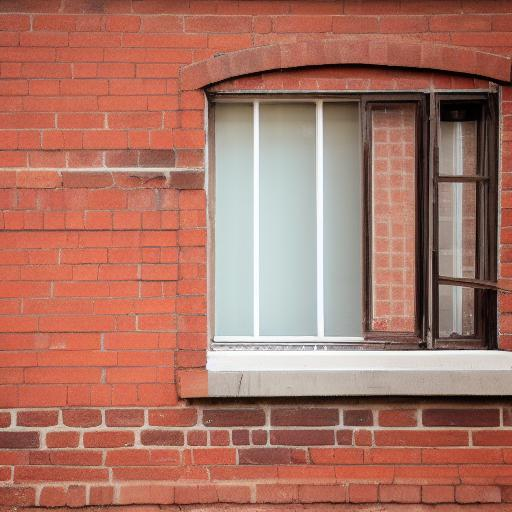Window: (176, 39, 512, 401)
